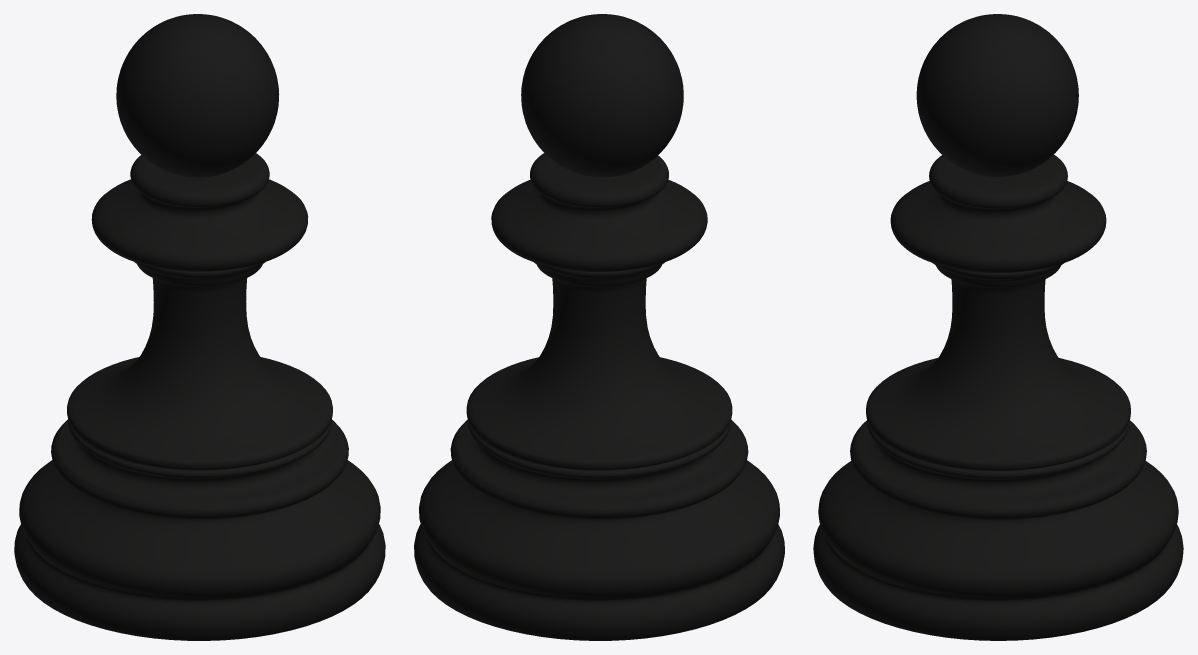
The model's file is Pawn.fbx.
The picture shows the model from 3 angles, left to right: view 1: azimuth 30°, elevation 25°; view 2: azimuth 150°, elevation 25°; view 3: azimuth 270°, elevation 25°; orthographic projection.
Parts seen in each view (by area): view 1: P Body; view 2: P Body; view 3: P Body.
Boxes of the visible parts, left/top/right/bottom form: P Body: left=14, top=14, right=385, bottom=640; P Body: left=414, top=14, right=784, bottom=640; P Body: left=813, top=14, right=1183, bottom=640.
Bounding box in the file's own units: 196 × 196 × 319.
